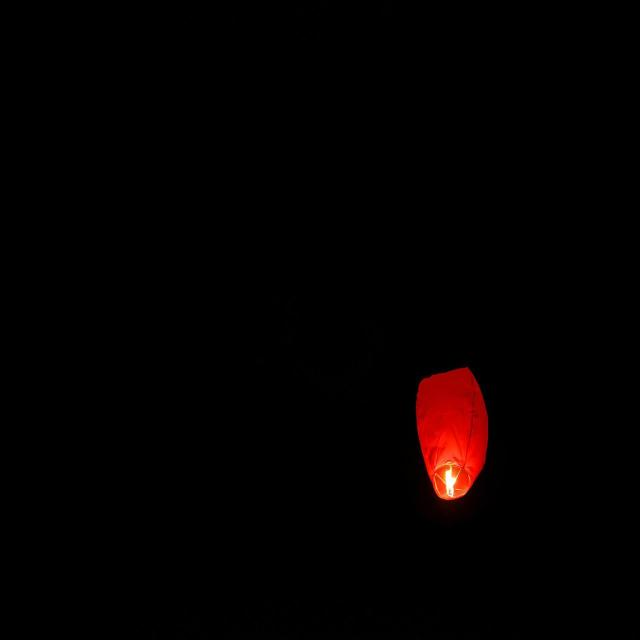Fire_Save: (414, 366, 488, 502)
